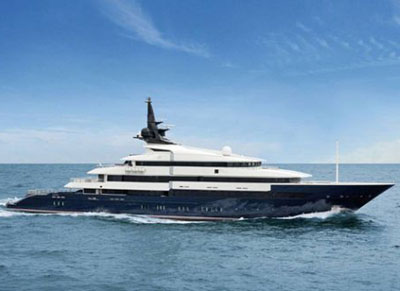yacht: (6, 95, 390, 221)
